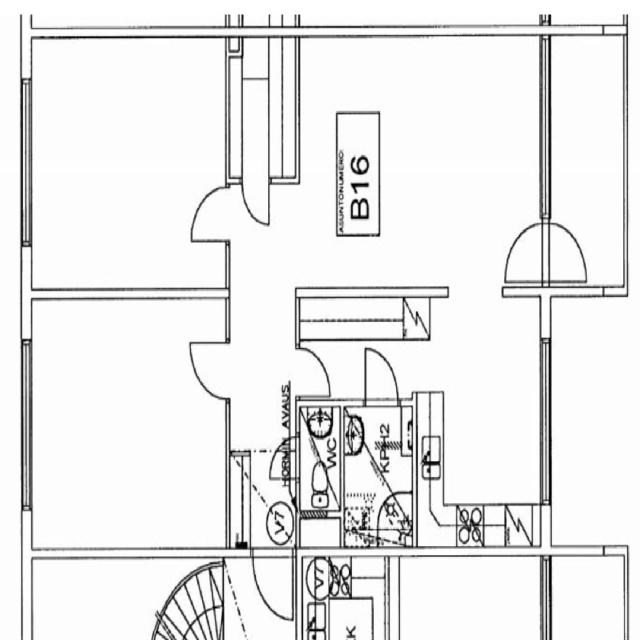door: (250, 542, 296, 627), (501, 214, 546, 288), (186, 180, 232, 246), (187, 334, 231, 402), (547, 215, 589, 285), (362, 344, 401, 408), (296, 342, 335, 401), (239, 178, 273, 230), (269, 442, 294, 482)
window: (18, 337, 33, 508), (17, 78, 32, 248)
zone: (297, 29, 543, 290), (25, 37, 228, 298), (24, 300, 228, 554), (405, 288, 545, 546), (228, 35, 300, 189), (342, 404, 413, 546), (300, 554, 392, 640), (299, 400, 341, 521)
